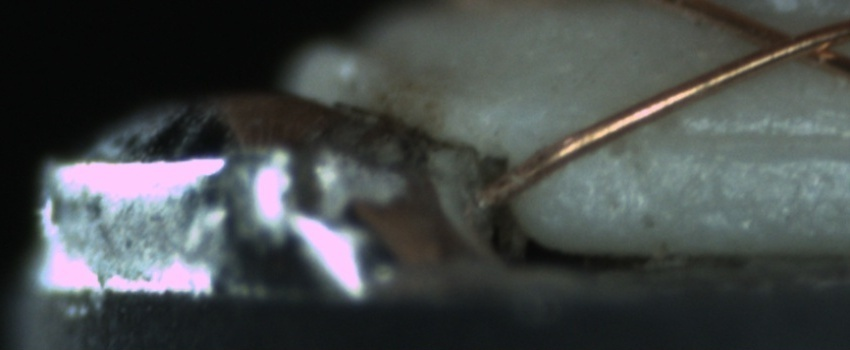CL: (730, 14, 850, 73)
DL: (626, 101, 842, 176)
